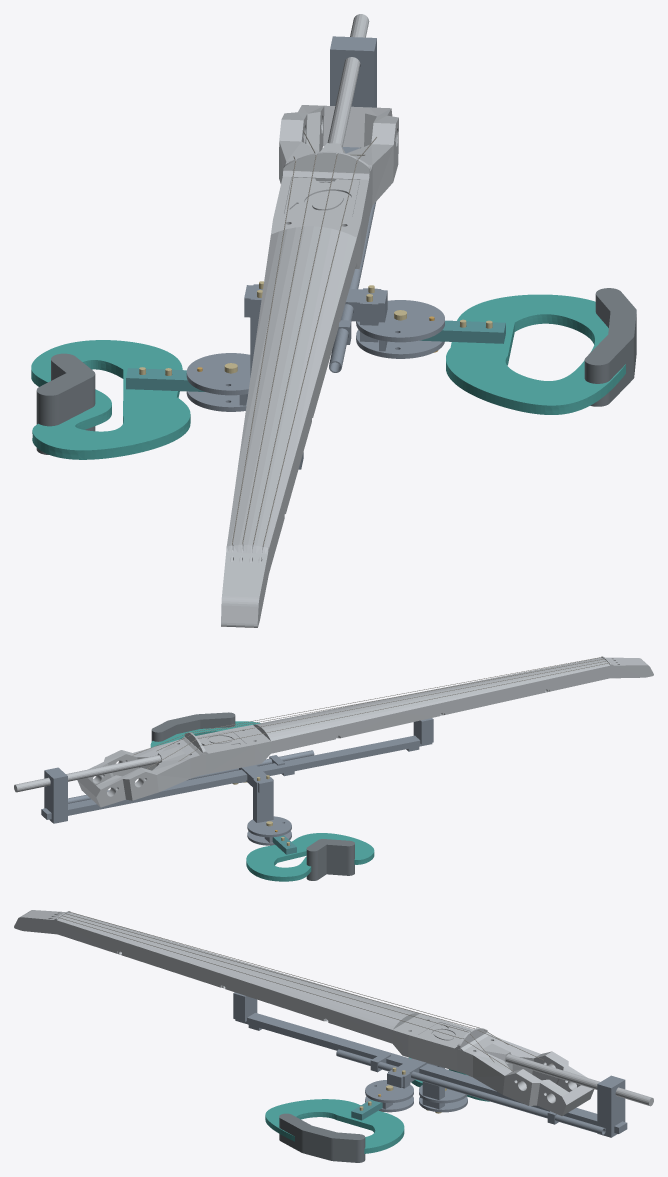
File: transition.glb
3 views of the same model, one above another, from view 1: azimuth 30°, elevation 25°; view 2: azimuth 150°, elevation 25°; view 3: azimuth 270°, elevation 25° (orthographic). The views are drawn at different scales.
Visible parts, largest first — view 1: contoured_frame_1, contoured_frame_-1, Part_3, Part_1, Part_2, Part_4, Part_6, padded_contact_1, clevis_base_1, padded_contact_-1, clevis_base_-1, lower_metal_adapter_PROPOSED (+8 smaller); view 2: Part_6, rear_metal_backbone, Part_3, Part_2, Part_4, contoured_frame_-1, Part_1, Part_5, padded_contact_-1, padded_contact_1, Center_bar, lower_metal_adapter_PROPOSED (+11 smaller); view 3: Part_6, Part_3, rear_metal_backbone, Part_2, Part_4, contoured_frame_1, Part_1, padded_contact_1, Part_5, stowed_endpin_tube, lower_metal_adapter_PROPOSED, Center_bar (+10 smaller).
Part boxes in pixels (box(x1,y1,x2,y2)): contoured_frame_1: box(446, 294, 625, 414); contoured_frame_-1: box(31, 340, 190, 459); Part_3: box(249, 286, 340, 421); Part_1: box(221, 483, 286, 627); Part_2: box(235, 384, 313, 511); Part_4: box(262, 219, 360, 320); Part_6: box(279, 105, 398, 211); padded_contact_1: box(584, 288, 636, 406); clevis_base_1: box(356, 300, 444, 358); padded_contact_-1: box(36, 353, 95, 454); clevis_base_-1: box(186, 353, 250, 411); lower_metal_adapter_PROPOSED: box(330, 36, 376, 107); Part_6: box(77, 742, 199, 807); rear_metal_backbone: box(41, 735, 432, 819); Part_3: box(319, 691, 438, 737); Part_2: box(426, 670, 550, 716); Part_4: box(237, 712, 341, 763); contoured_frame_-1: box(246, 833, 374, 881); Part_1: box(533, 656, 653, 691); Part_5: box(172, 728, 261, 775); padded_contact_-1: box(306, 839, 354, 880); padded_contact_1: box(151, 712, 235, 741); Center_bar: box(14, 745, 204, 792); lower_metal_adapter_PROPOSED: box(44, 767, 67, 823); Part_6: box(463, 1038, 594, 1115); Part_3: box(219, 963, 353, 1022); rear_metal_backbone: box(235, 1013, 627, 1133); Part_2: box(123, 932, 245, 987); Part_4: box(329, 994, 435, 1054); contoured_frame_1: box(265, 1099, 404, 1153); Part_1: box(14, 910, 138, 955); padded_contact_1: box(279, 1113, 365, 1162); Part_5: box(402, 1018, 499, 1072); stowed_endpin_tube: box(336, 1049, 605, 1134); lower_metal_adapter_PROPOSED: box(597, 1075, 625, 1137); Center_bar: box(505, 1054, 653, 1106).
Bounding box in the file's own units: 630 × 181 × 888.
